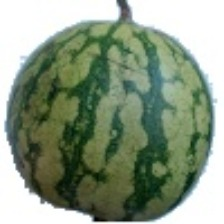watermelon: (18, 26, 217, 163)
